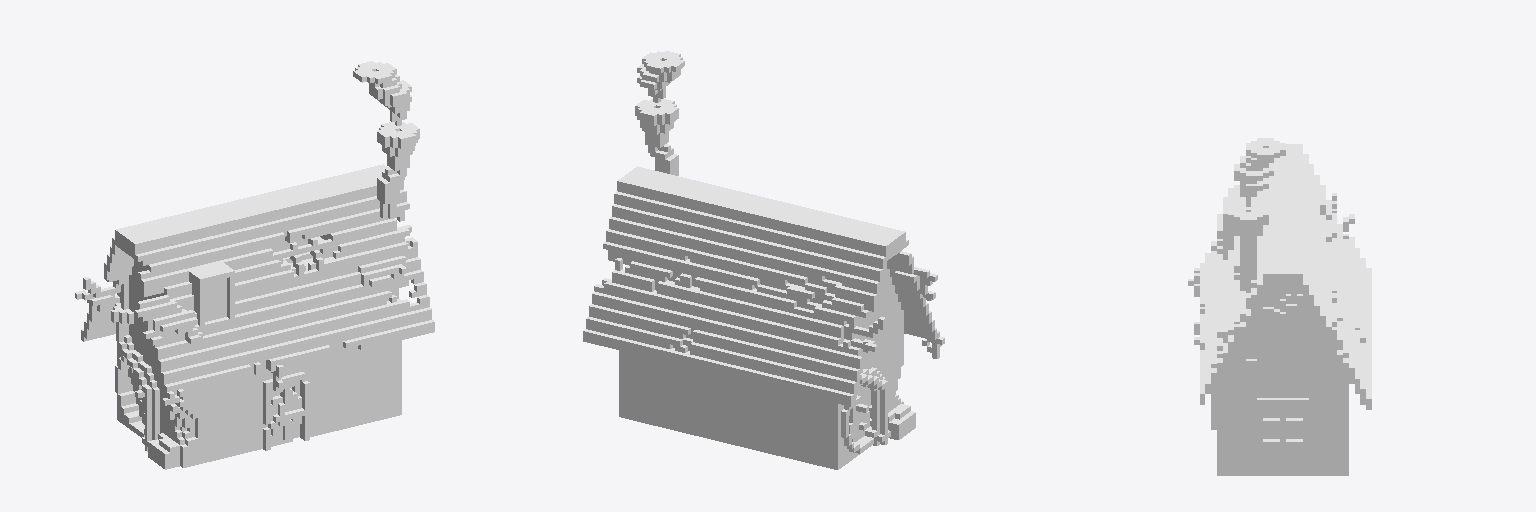
File: thiefs_home.obj
3 views of the same model, side by side, from view 1: azimuth 30°, elevation 25°; view 2: azimuth 150°, elevation 25°; view 3: azimuth 270°, elevation 25° (orthographic).
Visible parts, largest first — view 1: thiefs_home; view 2: thiefs_home; view 3: thiefs_home.
Boxes of the visible parts, <box> form: thiefs_home: <box>75,61,434,469</box>; thiefs_home: <box>583,51,944,469</box>; thiefs_home: <box>1188,138,1371,475</box>.
Bounding box in the file's own units: 58 × 63 × 32.